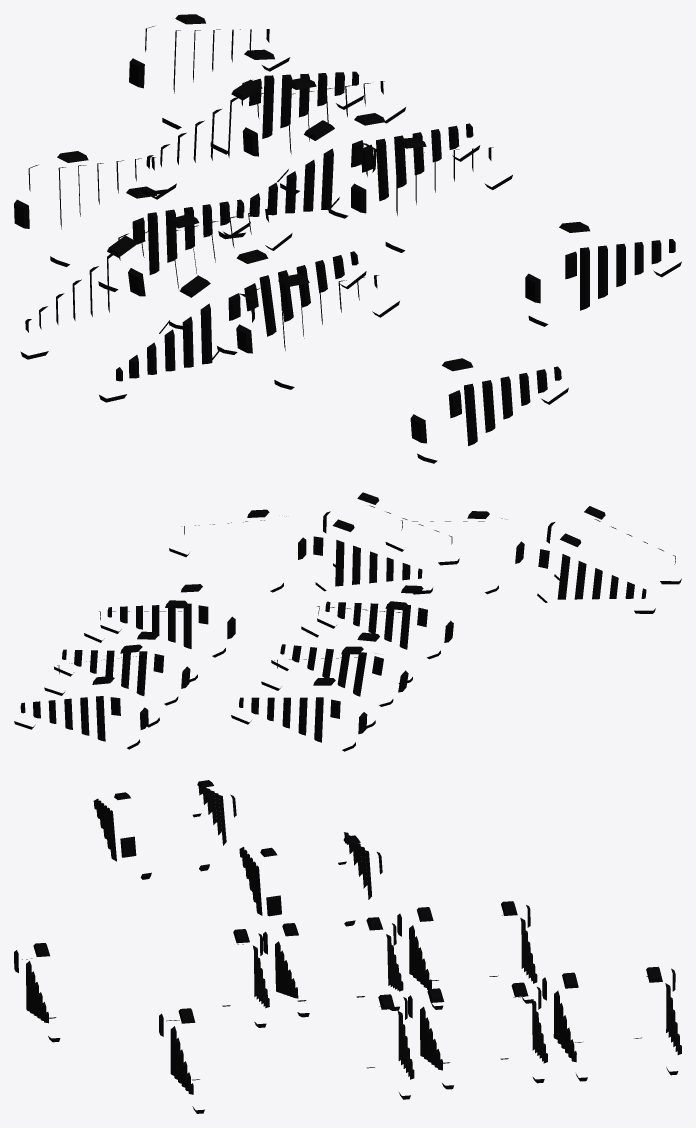
File: prop_static_tan_container_01_05_0.glb
3 renders of one model, top to bottom at view 1: azimuth 30°, elevation 25°; view 2: azimuth 150°, elevation 25°; view 3: azimuth 270°, elevation 25°, orthographic. The views are drawn at different scales.
Parts seen in each view (by area): view 1: tan_container_01_05_LOD0; view 2: tan_container_01_05_LOD0; view 3: tan_container_01_05_LOD0.
Part boxes in pixels (x1,y1,x2,y2): tan_container_01_05_LOD0: (14,14,681,463); tan_container_01_05_LOD0: (14,492,681,751); tan_container_01_05_LOD0: (14,780,681,1113).
Size of what is drawn, in the model's own units: 9.52 by 3.25 by 10.63.
Materials: 1 (1 with a texture image).
